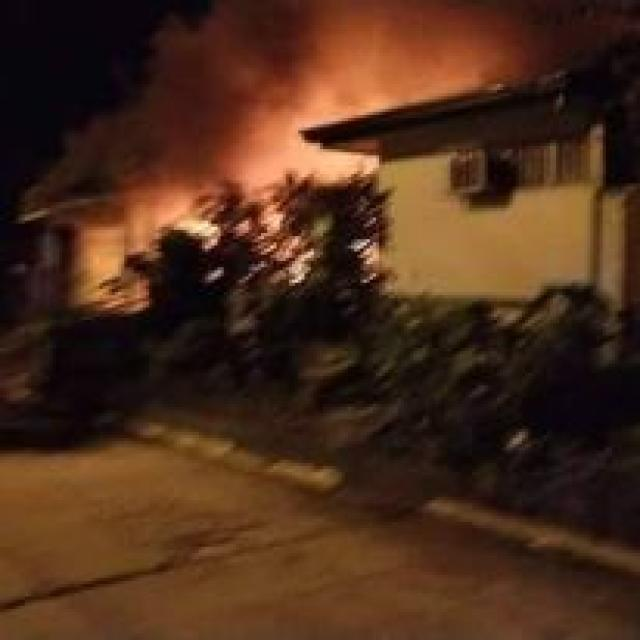Smoke: (56, 0, 556, 176)
